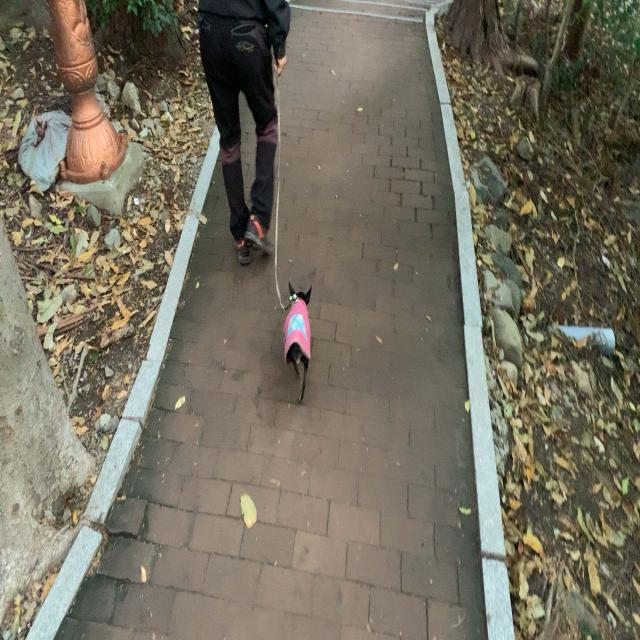Leashed_Dog: (244, 47, 312, 403)
